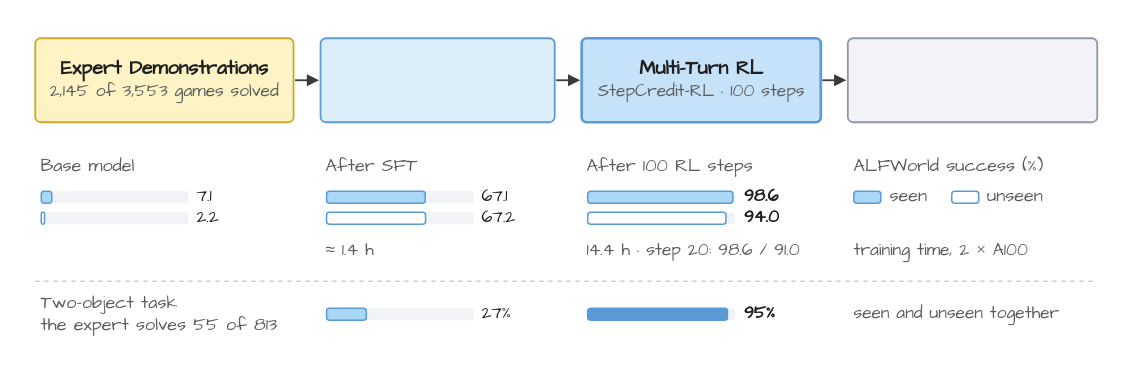
This 1131x384 diagram has some shape labels left out. The shapes that lost their labels are listed below. From the top down, each one's centre as x and y in pixels, then its label:
At point (437, 79): "SFT loss on tool calls · 1 epoch".
At point (971, 79): "Paired Evaluation same tasks · McNemar test".
